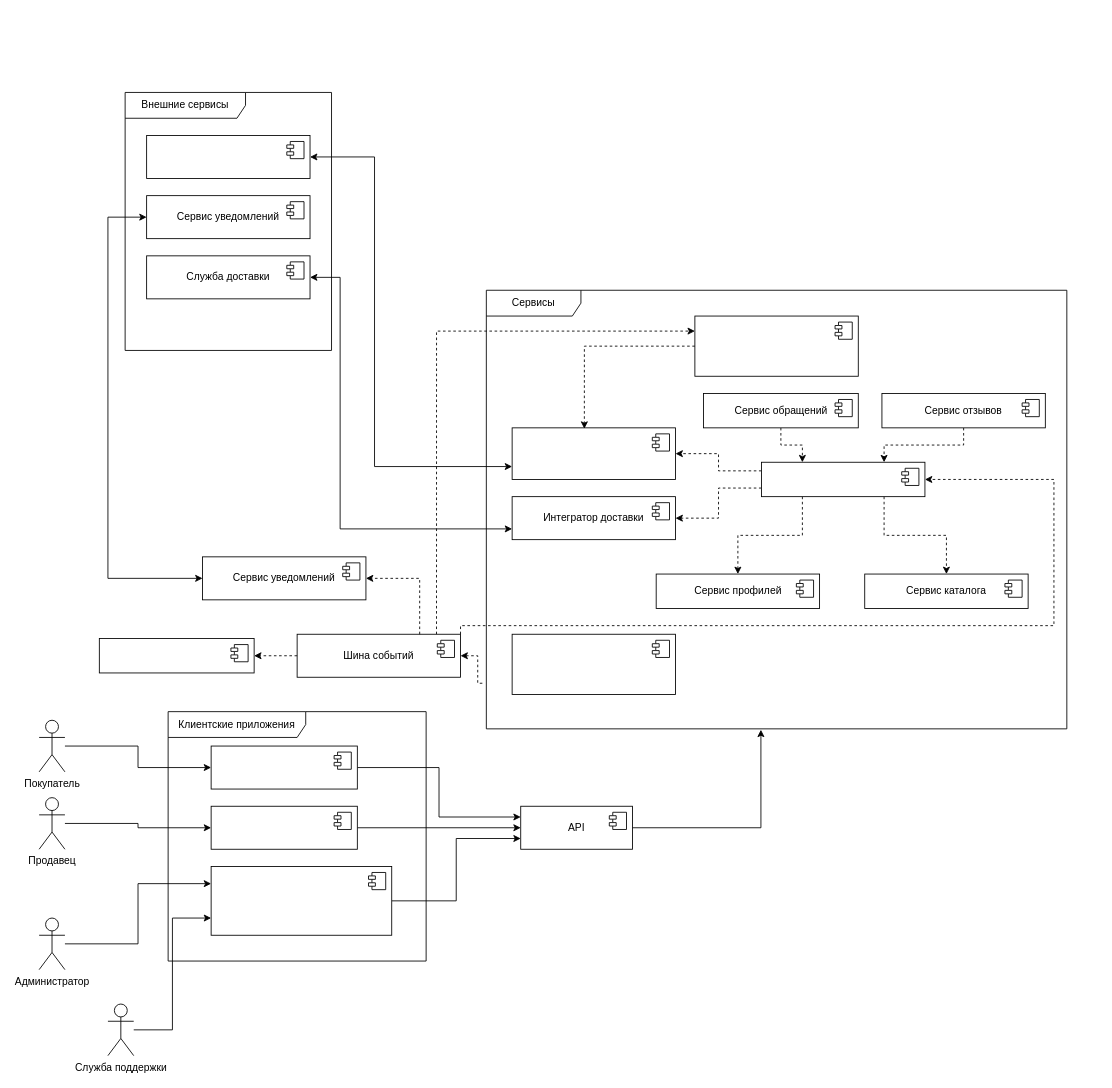
This 1112x1088 diagram has some shape labels left out. The centre of each missing label's shape, as x and y in pixels:
"Администрирование и поддержка" goes at point 301,900.
"Витрина покупателя" goes at point 283,767.
"Кабинет продавца" goes at point 283,827.
"Логирование" goes at point 176,655.
"Платежный интегратор" goes at point 593,453.
"Платежный сервис" goes at point 228,156.
"Сервис аутентификации и ролей" goes at point 593,663.
"Сервис заказов" goes at point 843,479.
"Сервис расчета с продавцами" goes at point 776,345.
